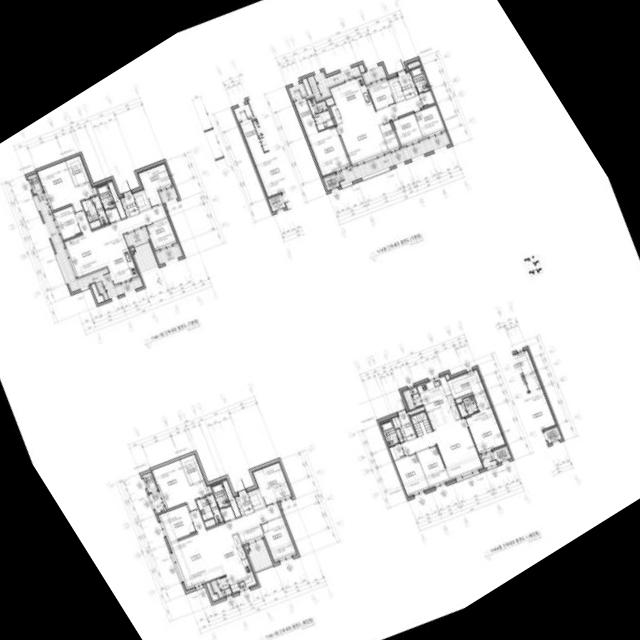background: (0, 0, 640, 640)
space_balconi: (34, 192, 143, 300), (336, 132, 450, 185), (307, 65, 361, 98), (247, 541, 272, 571), (133, 242, 158, 272), (155, 244, 182, 264), (210, 576, 232, 597), (402, 387, 422, 410), (363, 64, 386, 83), (126, 228, 148, 246), (149, 491, 164, 513), (288, 82, 307, 99), (480, 451, 497, 468), (160, 187, 178, 203)
space_bedroom: (152, 459, 209, 511), (37, 161, 94, 212), (465, 391, 505, 453), (307, 126, 350, 176), (253, 461, 292, 505), (260, 516, 297, 561), (138, 162, 173, 207), (394, 453, 429, 496), (158, 504, 196, 542), (417, 445, 449, 487), (146, 217, 177, 250), (414, 105, 445, 138), (392, 113, 423, 146), (52, 206, 81, 240), (367, 78, 395, 109)
space_dressroom: (447, 369, 485, 398), (293, 97, 318, 136), (180, 454, 204, 484), (66, 155, 89, 186)
space_front: (397, 72, 418, 99), (398, 413, 416, 441), (120, 192, 140, 216), (235, 492, 254, 515)
space_kitchen: (214, 533, 256, 592), (417, 376, 460, 429), (330, 76, 375, 123), (99, 235, 138, 284)
space_living_room: (169, 503, 282, 589), (63, 204, 167, 279), (337, 95, 423, 165), (401, 418, 483, 479)
space_other: (222, 480, 241, 517), (108, 181, 126, 218), (380, 122, 400, 151), (410, 411, 432, 437), (238, 524, 264, 544), (388, 76, 405, 102), (248, 488, 265, 510), (133, 189, 150, 211), (389, 443, 405, 460), (205, 582, 219, 601), (91, 283, 104, 303), (105, 207, 120, 223), (419, 90, 434, 106), (330, 104, 342, 124), (220, 506, 235, 521), (455, 393, 472, 403), (302, 78, 312, 95), (408, 406, 424, 415), (391, 415, 401, 428), (89, 219, 101, 229), (407, 60, 420, 69), (396, 429, 403, 442), (325, 97, 334, 106), (358, 64, 365, 72), (207, 485, 212, 493), (92, 186, 97, 194), (445, 374, 449, 379), (245, 545, 249, 549), (131, 247, 134, 250)
space_outdoor_room: (27, 173, 42, 194), (493, 445, 511, 462), (142, 472, 157, 492), (323, 173, 340, 190)
space_toilet: (196, 494, 223, 527), (307, 98, 334, 130), (81, 195, 108, 224), (410, 66, 429, 93), (380, 420, 399, 446), (211, 482, 230, 508), (96, 184, 115, 210), (457, 395, 478, 416)
